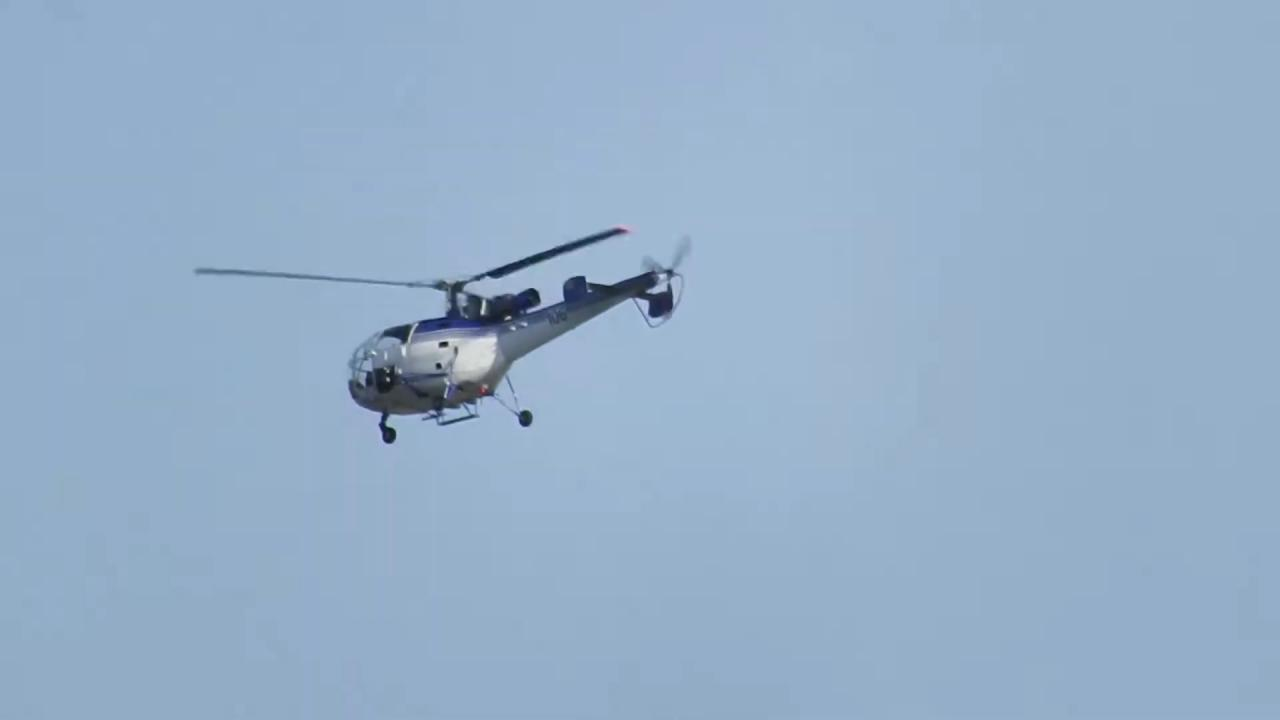Helicopter: (180, 208, 706, 459)
